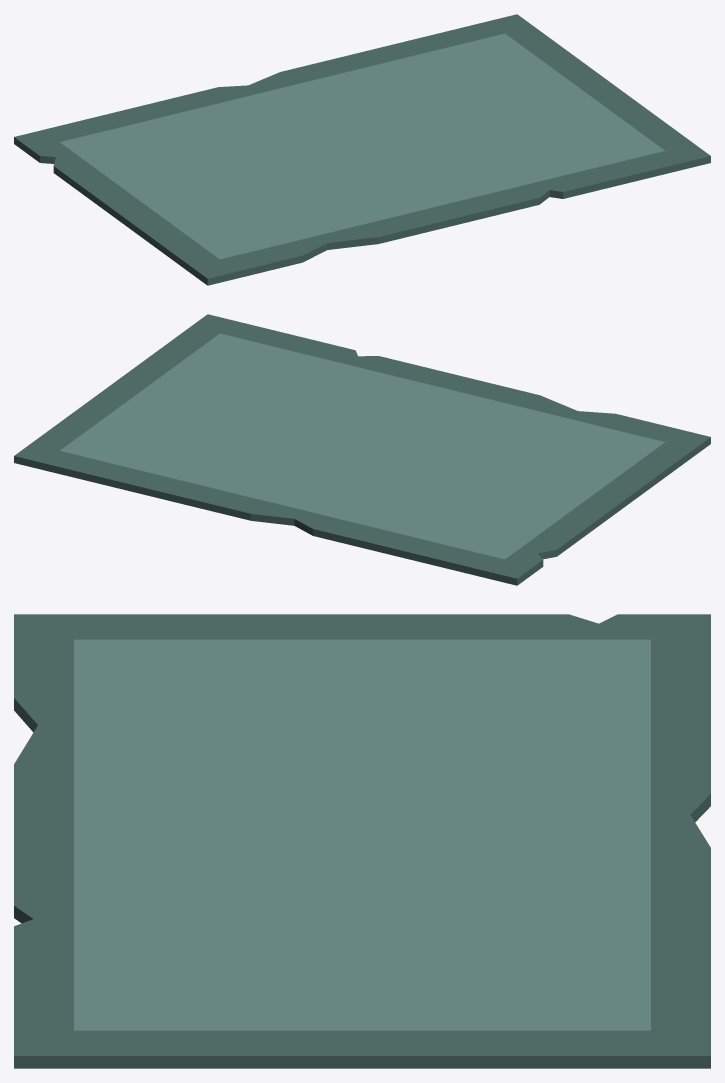
File: Carpet_01.fbx
The picture shows the model from 3 angles, top to bottom: view 1: azimuth 30°, elevation 25°; view 2: azimuth 150°, elevation 25°; view 3: azimuth 270°, elevation 25°; orthographic projection. The views are drawn at different scales.
Visible parts, largest first — view 1: Carpet_01; view 2: Carpet_01; view 3: Carpet_01.
Part boxes in pixels (box(x1,y1,x2,y2)): Carpet_01: box(14, 14, 710, 285); Carpet_01: box(14, 314, 710, 585); Carpet_01: box(14, 614, 710, 1068).
Size of the model in its own units: 150 by 2 by 100.
